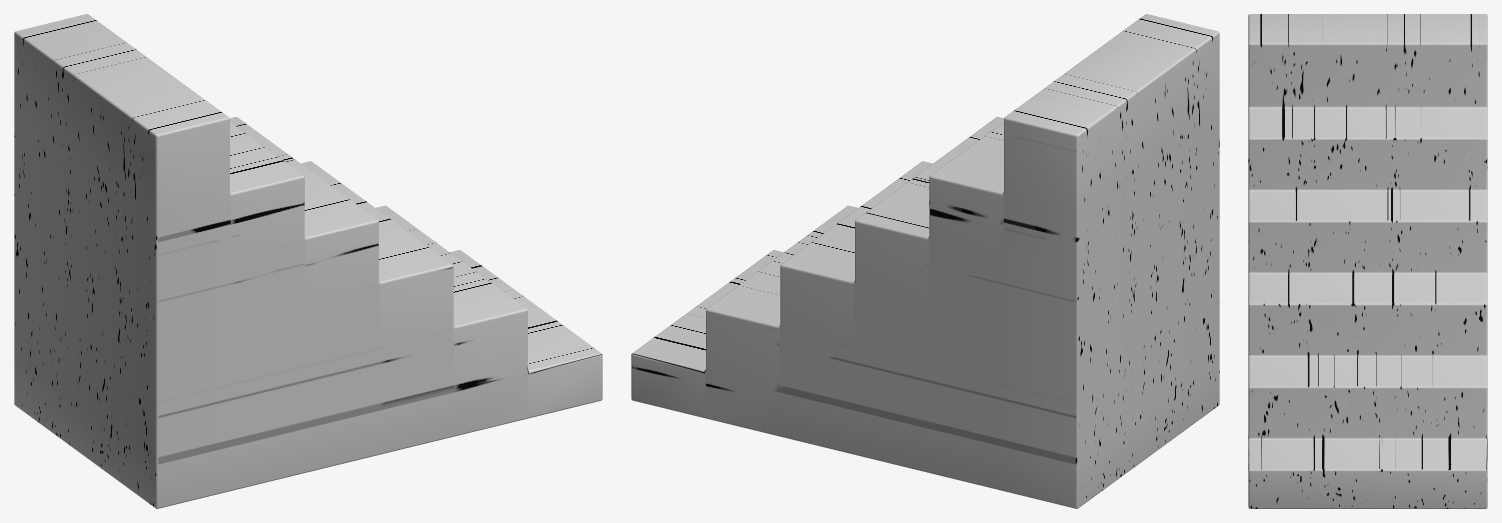
File: Stairs.fbx
The picture shows the model from 3 angles, left to right: view 1: azimuth 30°, elevation 25°; view 2: azimuth 150°, elevation 25°; view 3: azimuth 270°, elevation 25°; orthographic projection. The views are drawn at different scales.
Visible parts, largest first — view 1: Stairs; view 2: Stairs; view 3: Stairs.
Part boxes in pixels (bbox=[...]): Stairs: bbox=[14, 14, 602, 508]; Stairs: bbox=[631, 14, 1219, 508]; Stairs: bbox=[1248, 14, 1487, 508].
Bounding box in the file's own units: 113 × 90.61 × 62.63.
